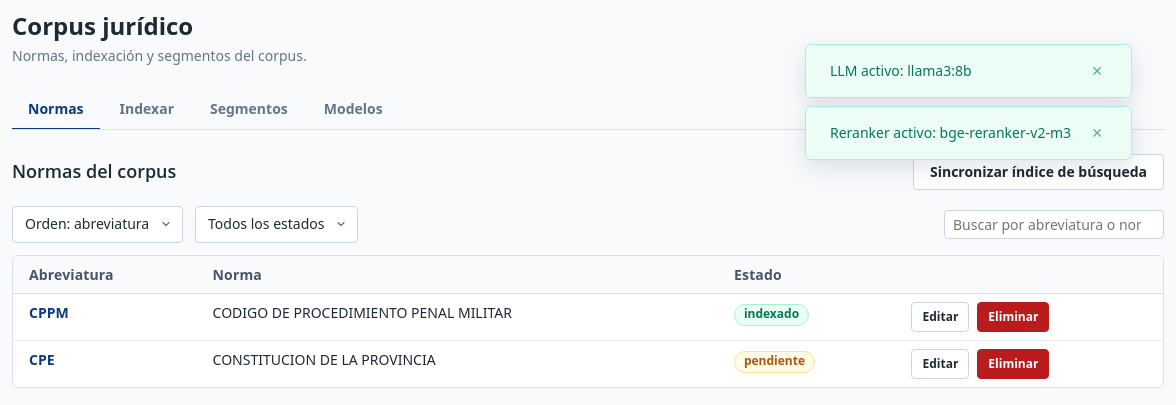
Test: Corpus: tabs › tab Segmentos con estado vacío
Expected: the text "CODIGO DE PROCEDIMIENTO PENAL MILITAR" is shown, x1=197 y1=294 x2=718 y2=341
Click the tab "Segmentos".
click(249, 110)  # box x1=194 y1=90 x2=304 y2=130
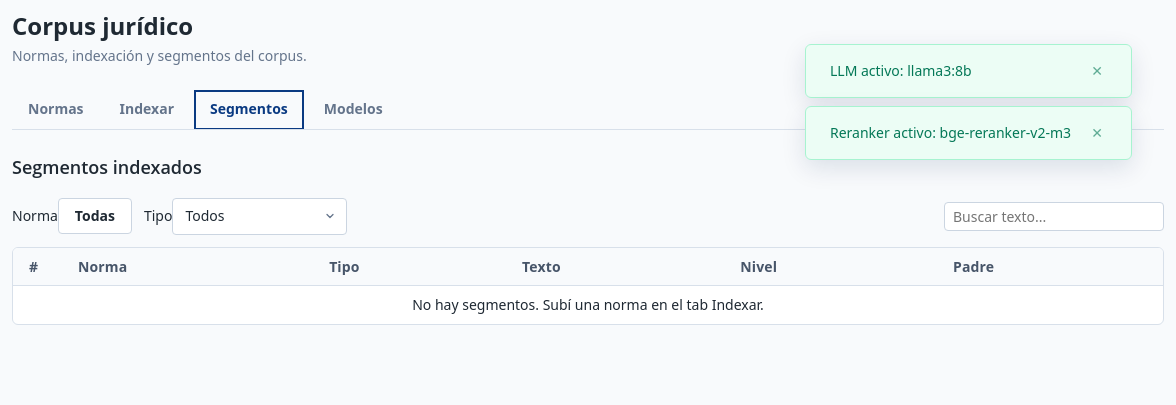
Expected: the text "No hay segmentos. Subí una norma en el tab Indexar." is shown, x1=13 y1=286 x2=1163 y2=324
